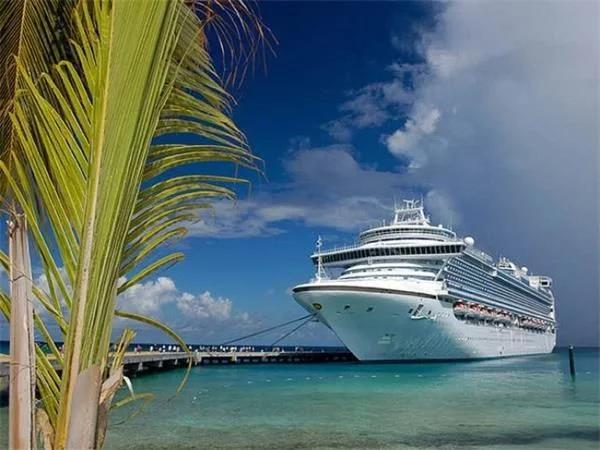youlun: (287, 205, 562, 362)
